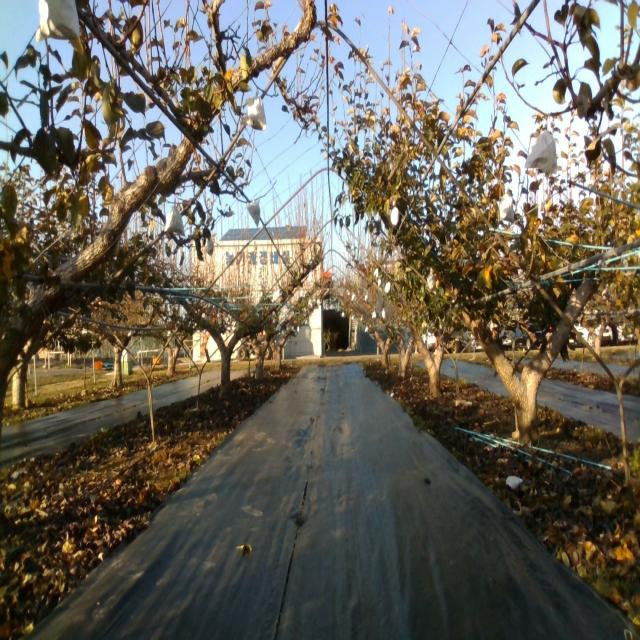pearbags: (38, 0, 79, 44), (524, 131, 558, 175), (242, 94, 267, 128), (165, 205, 186, 236), (497, 192, 515, 222), (246, 198, 261, 225), (390, 205, 401, 228)
